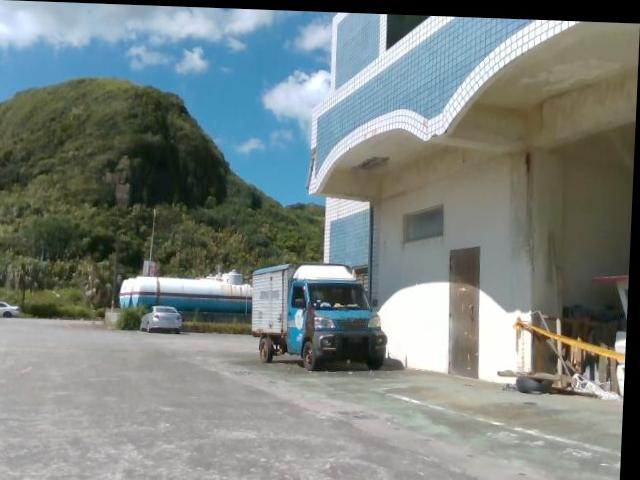pollute: (499, 263, 626, 398)
